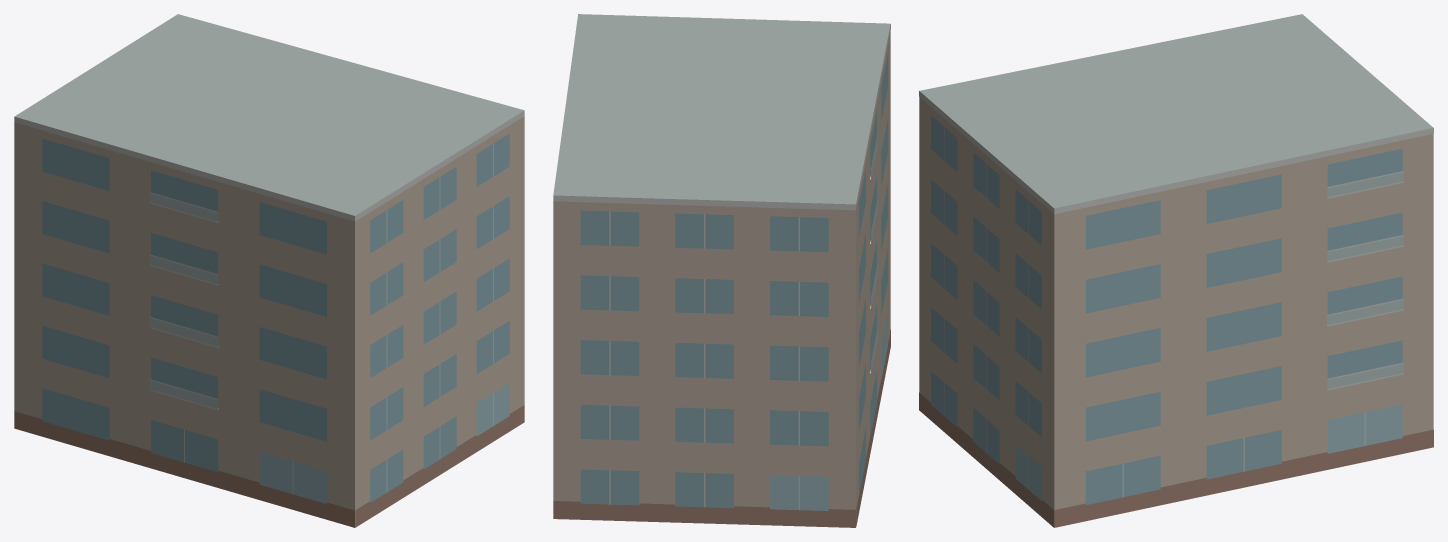
Rendered from survey-upis-32758091.glb.
3 views of the same model, side by side, from view 1: azimuth 30°, elevation 25°; view 2: azimuth 150°, elevation 25°; view 3: azimuth 270°, elevation 25° (orthographic). The views are drawn at different scales.
Parts seen in each view (by area): view 1: survey-upis-32758091.tmp; view 2: survey-upis-32758091.tmp; view 3: survey-upis-32758091.tmp.
Part boxes in pixels (bbox=[...]): survey-upis-32758091.tmp: bbox=[14, 14, 524, 527]; survey-upis-32758091.tmp: bbox=[553, 14, 890, 527]; survey-upis-32758091.tmp: bbox=[919, 14, 1433, 527].
Bounding box in the file's own units: 17.51 × 13.4 × 19.57.
